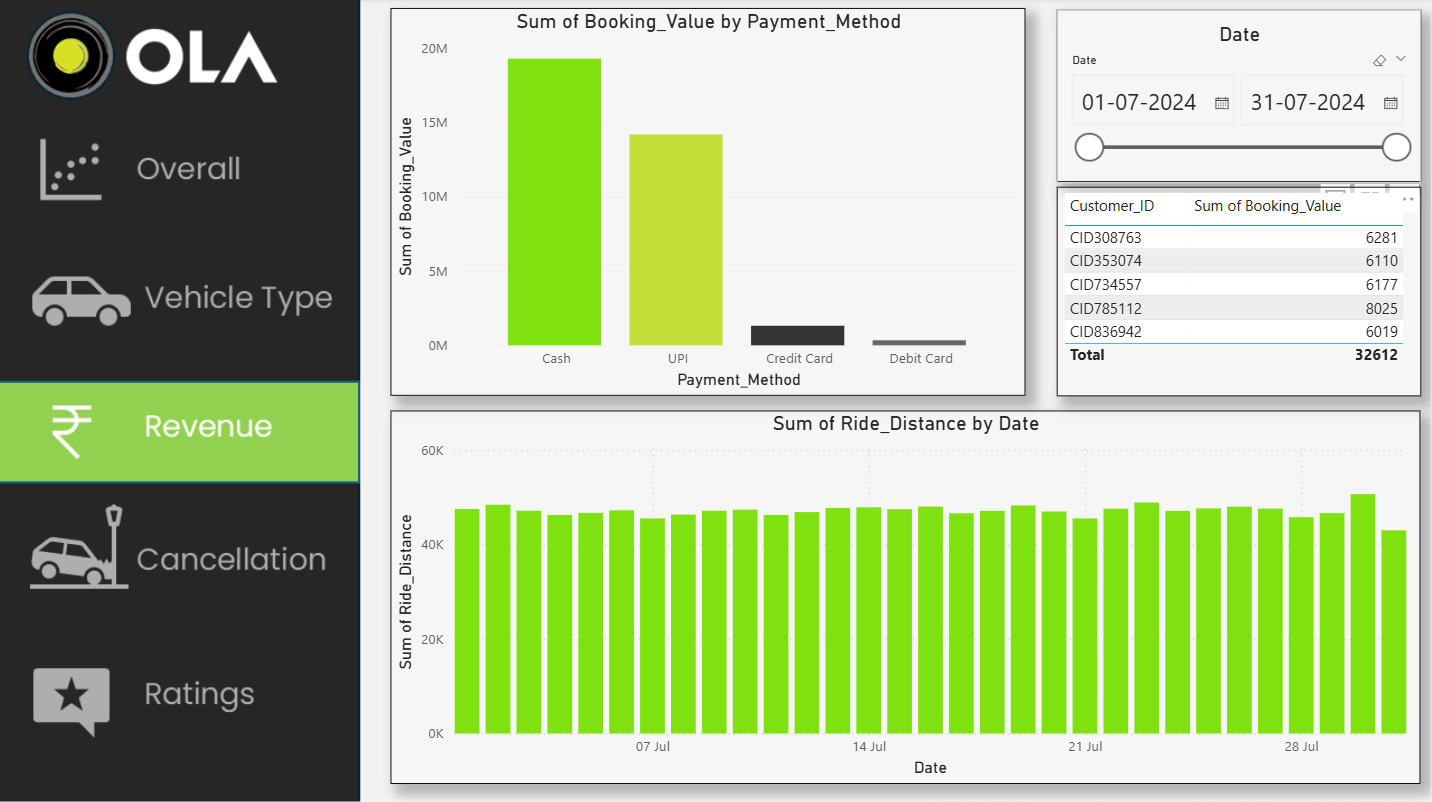

Layout of this report page (visuals, bound fields, positions):
{"tool":"powerbi","page":{"name":"revenue","canvas":[1280,720],"ordinal":2},"visuals":[{"type":"actionButton","box":[0,112.8,323.8,83.7],"z":0},{"type":"actionButton","box":[0,230,324.9,90.4],"z":1000},{"type":"actionButton","box":[0,445.5,324.9,90.4],"z":2000},{"type":"actionButton","box":[0,582.9,324.9,90.4],"z":3000},{"type":"columnChart","fields":{"Category":["July (2).Payment_Method"],"Y":["Sum(July (2).Booking_Value)"]},"box":[351.2,9.3,567.4,346.5],"z":4000},{"type":"columnChart","fields":{"Y":["Sum(July (2).Ride_Distance)"],"Category":["July (2).Date"]},"box":[351.2,368.6,919.8,333.7],"z":5000},{"type":"slicer","title":"Date","fields":{"Values":["July (2).Date"]},"box":[945.4,10.5,325.6,154.7],"z":6000},{"type":"tableEx","fields":{"Values":["July (2).Customer_ID","Sum(July (2).Booking_Value)"]},"box":[945.4,168.6,325.6,187.2],"z":7000}]}

Visuals, with their boxes in screenshot pixels (x1, y1, x2, y2), scaled from the page's 1280x720 canvas onto the 1432x802 screenshot:
actionButton: select_region(0, 126, 362, 219)
actionButton: select_region(0, 256, 363, 357)
actionButton: select_region(0, 496, 363, 597)
actionButton: select_region(0, 649, 363, 750)
columnChart - July (2).Payment_Method x Sum(July (2).Booking_Value): select_region(393, 10, 1028, 396)
columnChart - Sum(July (2).Ride_Distance) x July (2).Date: select_region(393, 411, 1422, 782)
"Date" slicer: select_region(1058, 12, 1422, 184)
tableEx - July (2).Customer_ID x Sum(July (2).Booking_Value): select_region(1058, 188, 1422, 396)
